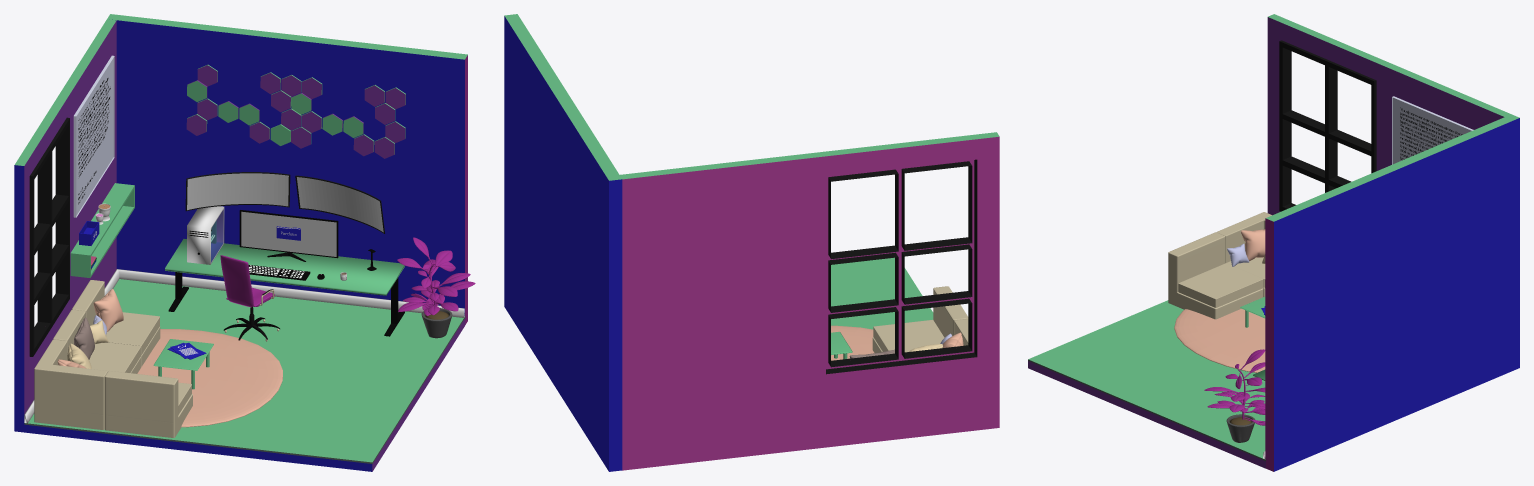
Rendered from room.glb.
3 renders of one model, left to right at view 1: azimuth 30°, elevation 25°; view 2: azimuth 150°, elevation 25°; view 3: azimuth 270°, elevation 25°, orthographic. The views are drawn at different scales.
Visible parts, largest first — view 1: Walll, Wall, Plane.020, Table.002, Cube.003, Cube.002, Picture, Cylinder.020, Top left monitor, Monitor, Cylinder.021, Top right monitor (+16 smaller); view 2: Wall, Walll, Cube.004, Cube.002, Plane.020; view 3: Walll, Wall, Plane.020, Cube.002, Picture, Cube.004, Cube.003, Text.002, Plane.011.
Part boxes in pixels (box(x1,y1,x2,y2)): Walll: box(107, 14, 467, 324); Wall: box(14, 19, 465, 471); Plane.020: box(137, 329, 282, 427); Table.002: box(165, 239, 404, 295); Cube.003: box(34, 339, 107, 429); Cube.002: box(105, 371, 192, 437); Picture: box(73, 55, 114, 217); Cylinder.020: box(186, 64, 405, 158); Top left monitor: box(185, 172, 290, 211); Monitor: box(241, 211, 336, 256); Cylinder.021: box(197, 98, 405, 143); Top right monitor: box(295, 175, 384, 233); Wall: box(620, 132, 999, 470); Walll: box(504, 14, 622, 471); Cube.004: box(873, 319, 944, 352); Cube.002: box(872, 286, 968, 352); Plane.020: box(831, 325, 874, 360); Walll: box(1265, 114, 1519, 471); Wall: box(1028, 14, 1510, 468); Plane.020: box(1174, 308, 1265, 372); Cube.002: box(1168, 232, 1263, 319); Picture: box(1392, 96, 1473, 164); Cube.004: box(1178, 263, 1263, 307); Cube.003: box(1216, 212, 1271, 296); Text.002: box(1400, 107, 1462, 159); Plane.011: box(1241, 229, 1265, 260).
Size of the model in its own units: 10.92 by 6.13 by 10.92.
